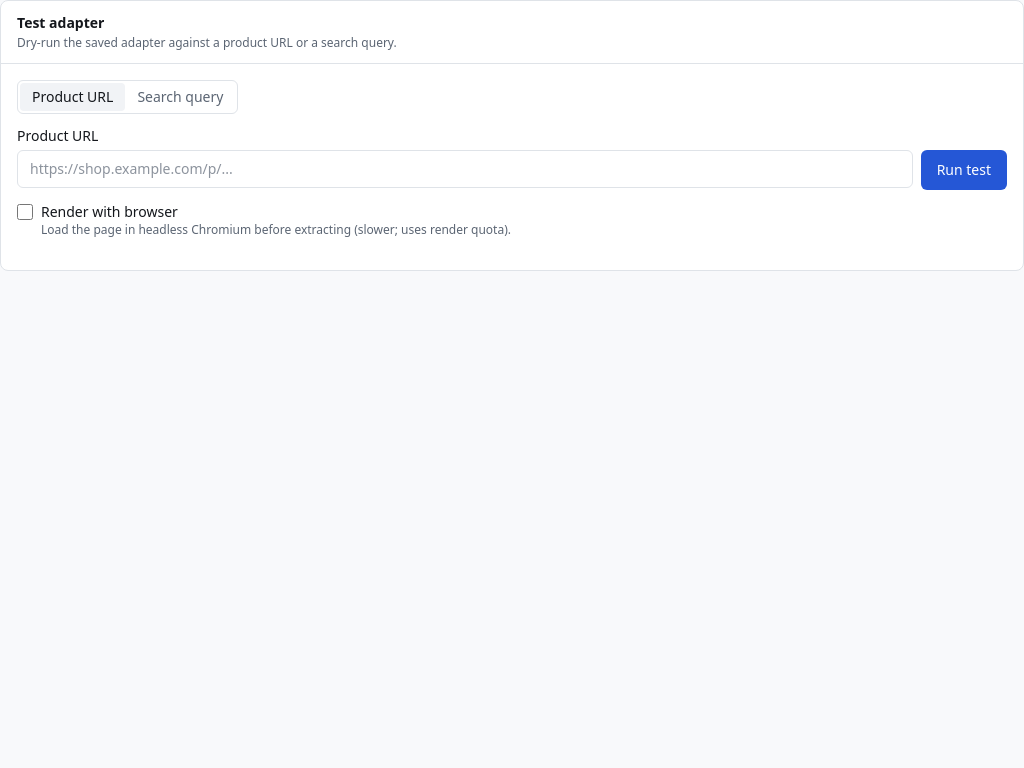
AdapterTestPanel › sends render: true when 'Render with browser' is checked and shows the result
The width and height of the screenshot is (1024, 768).
Click the checkbox labelled "Render with browser": [25, 212] box [17,204,33,220]
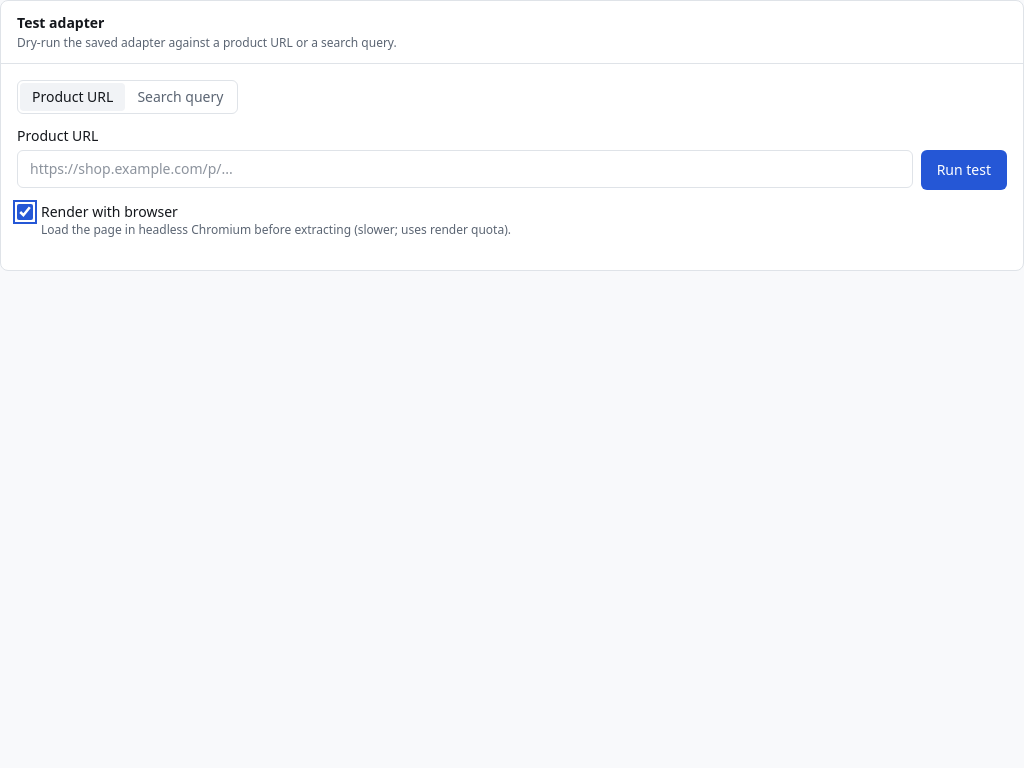
In the field labelled "Product URL": [465, 169] box [17,150,913,188], type "https://shop.example.com/p/1"
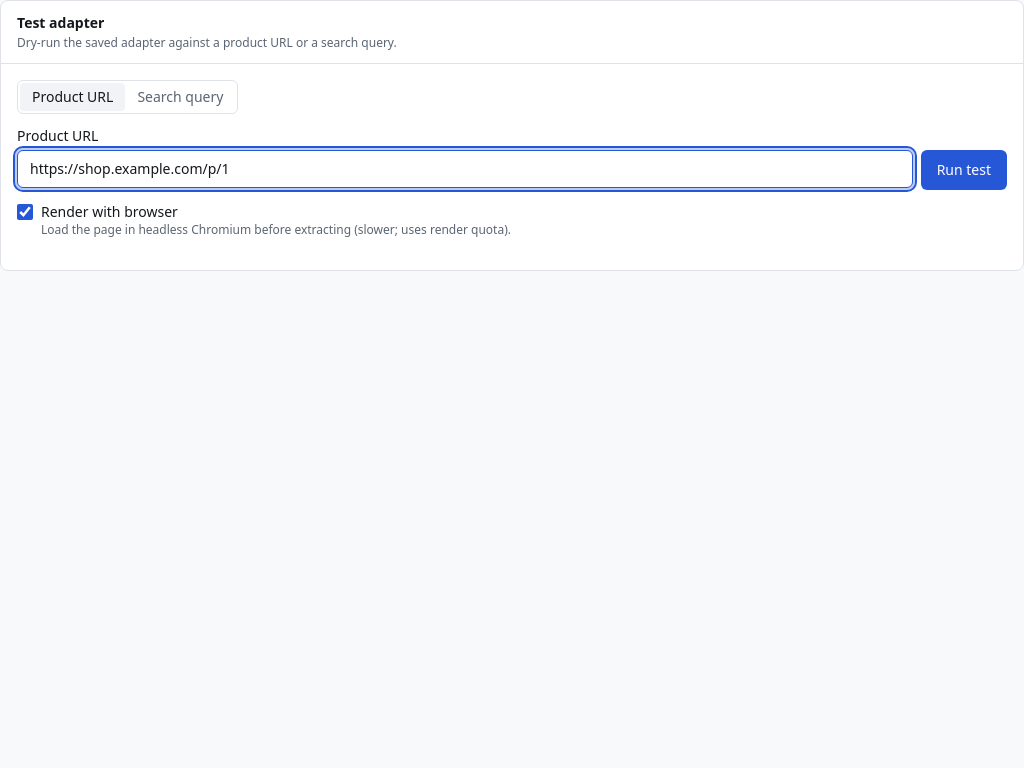
Click the button "Run test": [964, 170] box [921,150,1007,190]
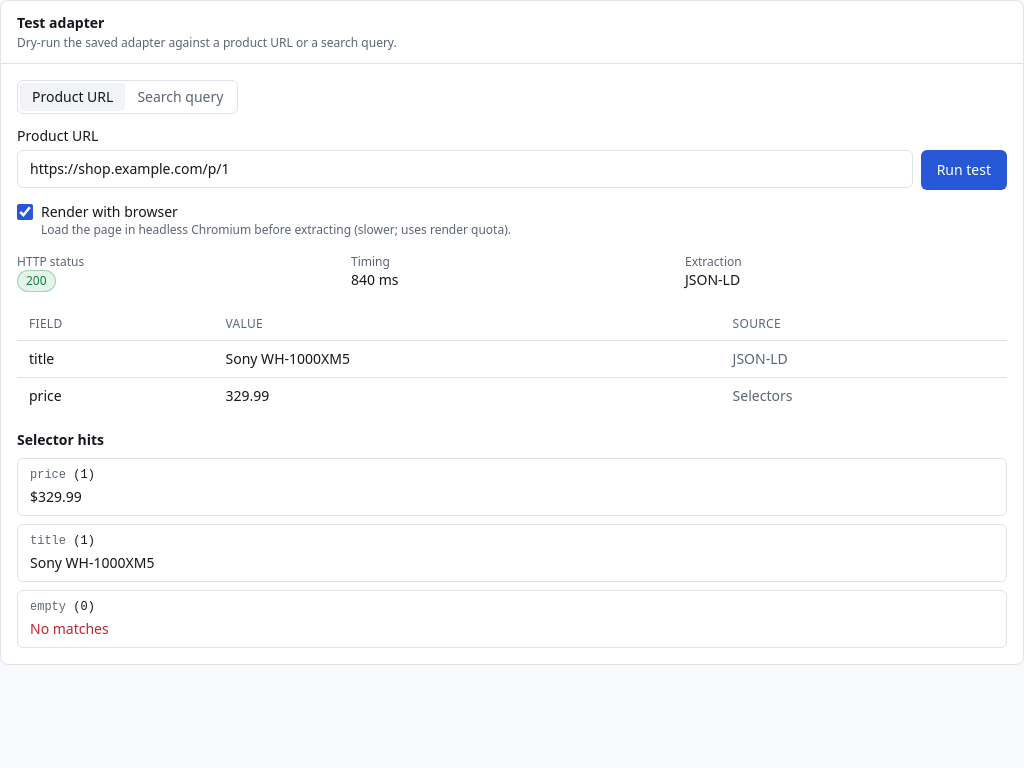
Expected: the text "JSON-LD" is shown 2 times, [685,270,740,289]; [721,341,1007,378]
Expected: the text "Selectors" is shown, [721,378,1007,414]
Expected: the text "No matches" is shown, [30,619,109,638]
